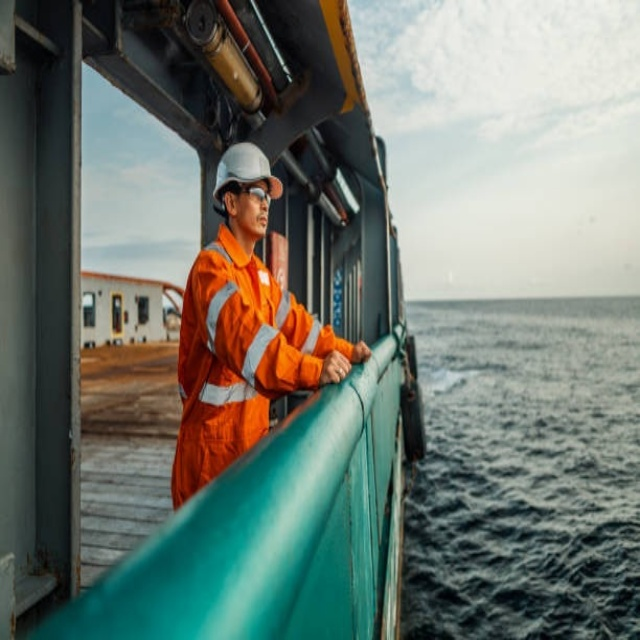Gafas: (240, 186, 271, 206)
Sin_guantes: (318, 344, 352, 389)
Sin_mascara: (248, 209, 272, 237)
